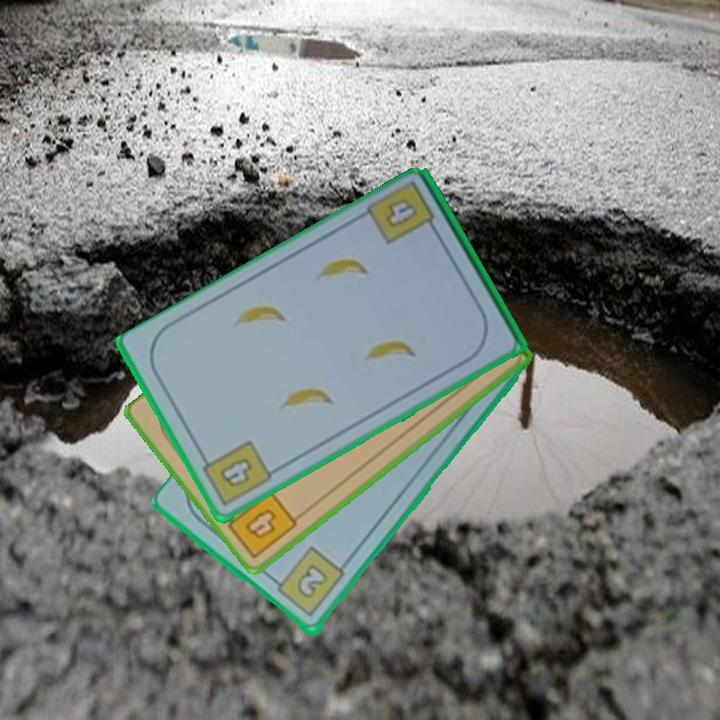2b: (268, 544, 348, 621)
4b: (219, 487, 301, 561), (196, 437, 275, 510), (385, 199, 417, 228)
